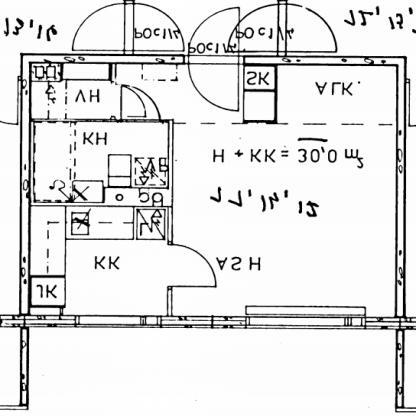door: (223, 1, 347, 55), (69, 0, 192, 54), (185, 4, 245, 114), (162, 239, 221, 291), (187, 61, 243, 115), (117, 84, 168, 126)
window: (238, 302, 370, 332), (69, 312, 167, 331)
